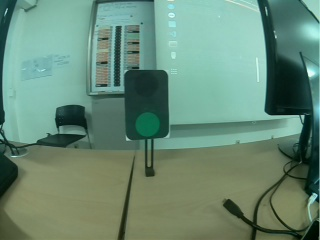green_light: (123, 70, 170, 139)
